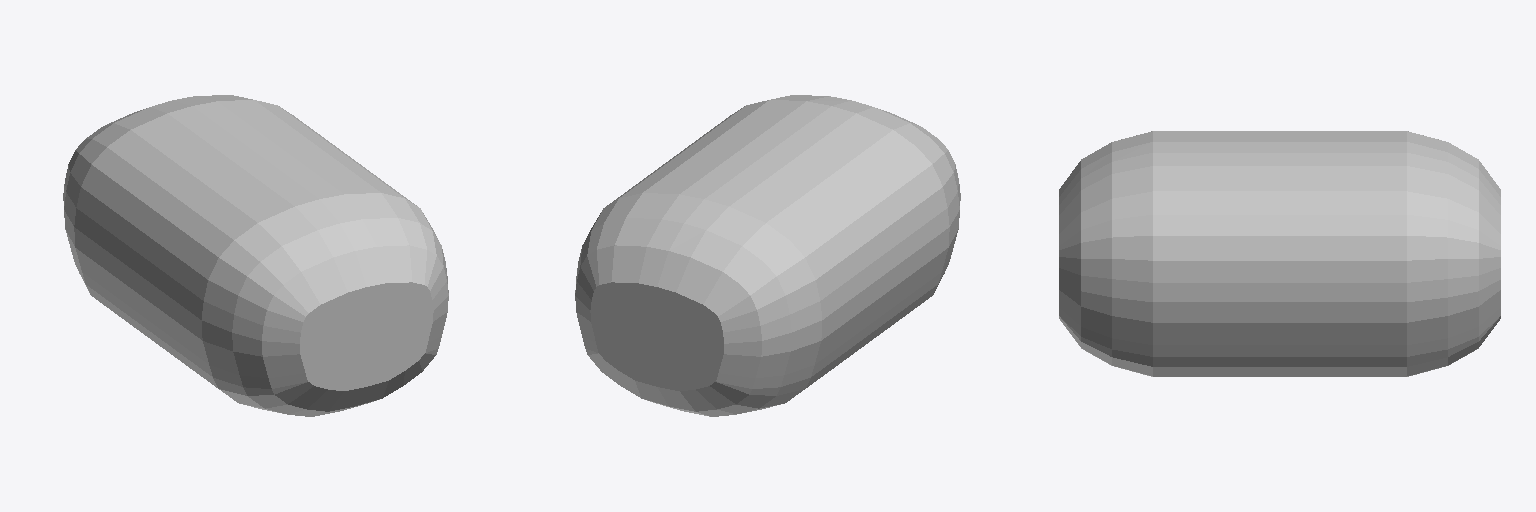
Rendered from snak_seg.obj.
3 renders of one model, left to right at view 1: azimuth 30°, elevation 25°; view 2: azimuth 150°, elevation 25°; view 3: azimuth 270°, elevation 25°, orthographic.
Parts seen in each view (by area): view 1: Body_segment; view 2: Body_segment; view 3: Body_segment.
Boxes of the visible parts, box(x1,y1,x2,y2) form: Body_segment: box(63, 95, 448, 416); Body_segment: box(575, 95, 960, 416); Body_segment: box(1059, 131, 1500, 376).
Size of the model in its own units: 0.9666 by 0.8083 by 1.57.